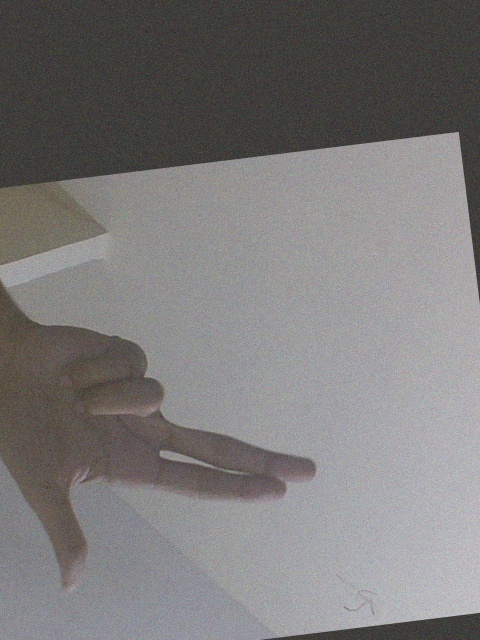hand: (1, 302, 325, 595)
